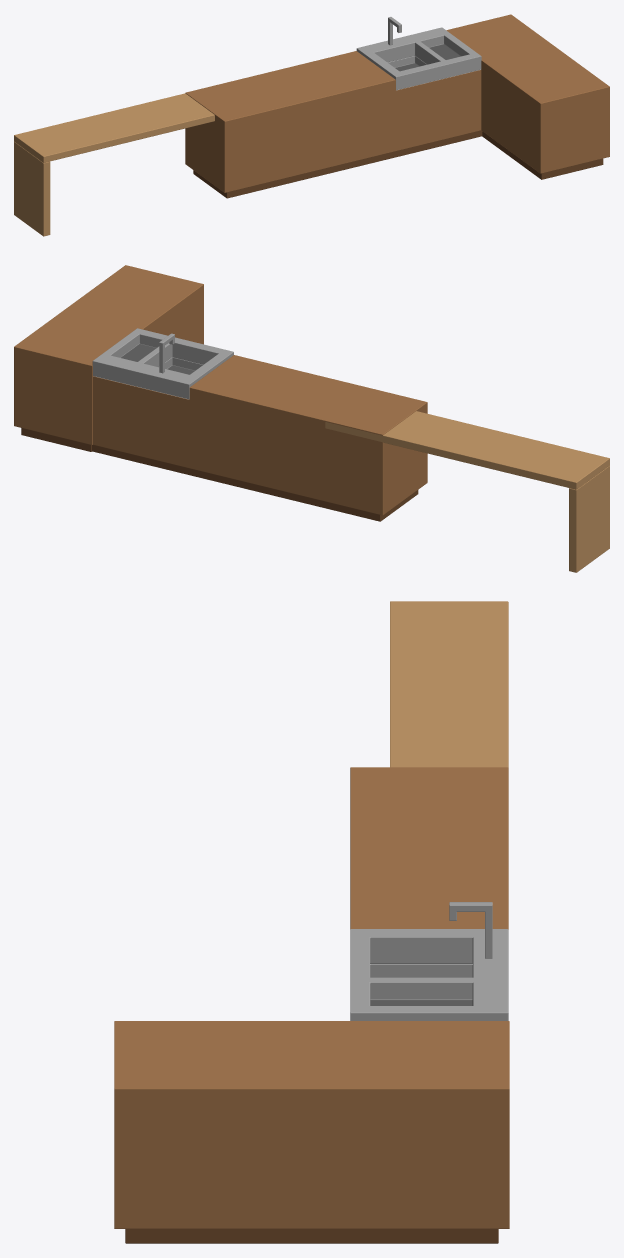
File: meson cocina.fbx
The picture shows the model from 3 angles, top to bottom: view 1: azimuth 30°, elevation 25°; view 2: azimuth 150°, elevation 25°; view 3: azimuth 270°, elevation 25°; orthographic projection. The views are drawn at different scales.
Parts seen in each view (by area): view 1: Barra_pata; view 2: Barra_pata; view 3: Barra_pata.
Part boxes in pixels (x1,y1,x2,y2): Barra_pata: (14,14,609,236); Barra_pata: (14,265,609,572); Barra_pata: (114,601,509,1243).
Bounding box in the file's own units: 581 × 123 × 200.
